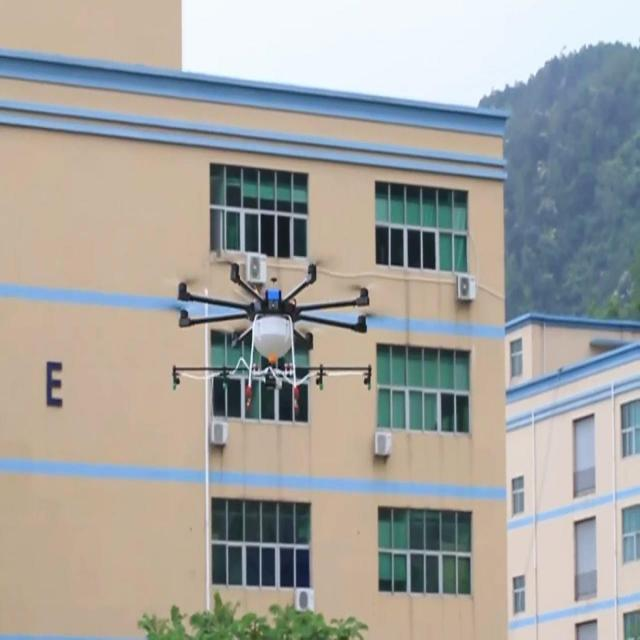UAV: (172, 263, 372, 413)
